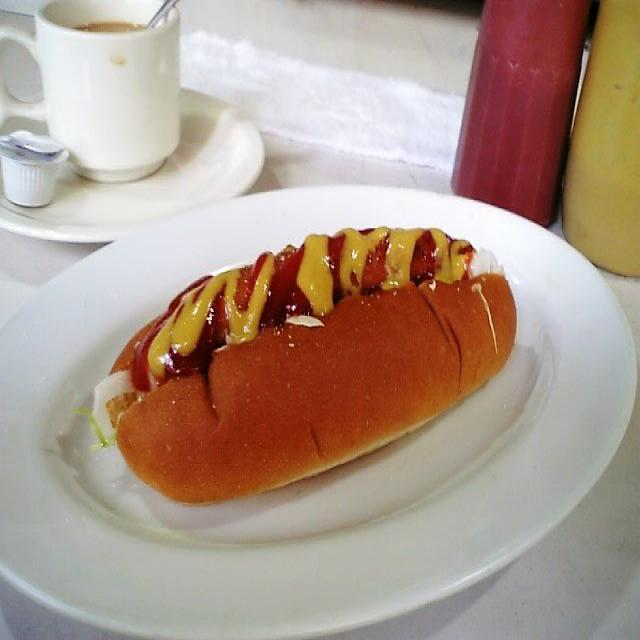Hot Dog: (104, 212, 524, 498)
